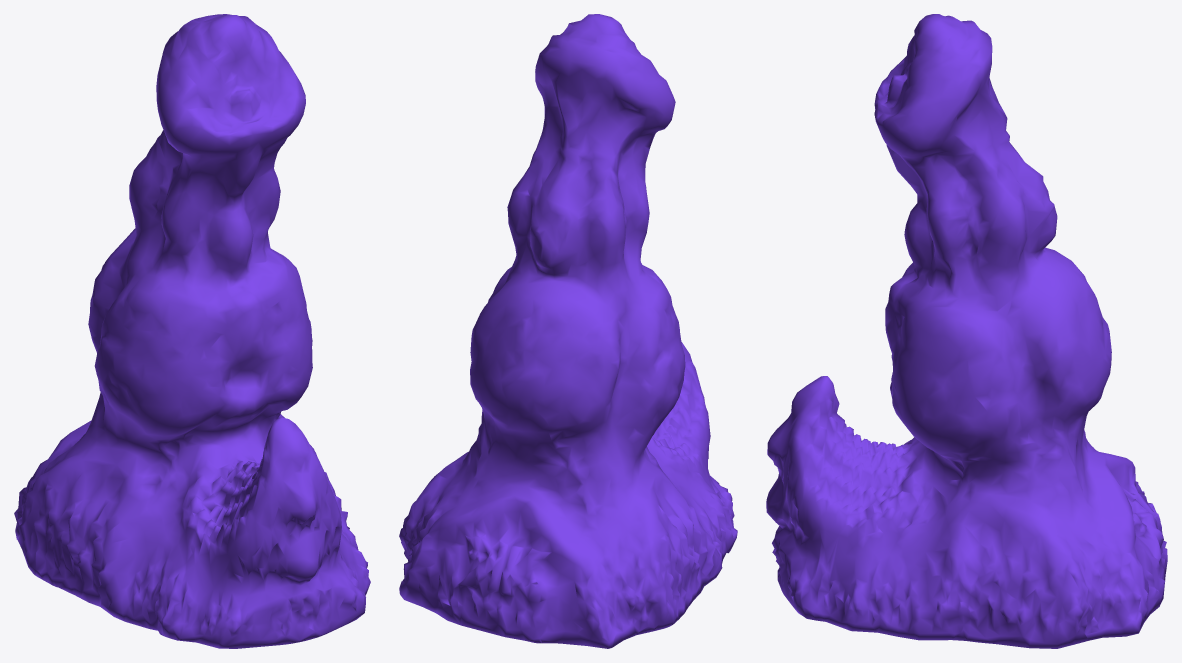
File: large-suction-ar.glb
The picture shows the model from 3 angles, left to right: view 1: azimuth 30°, elevation 25°; view 2: azimuth 150°, elevation 25°; view 3: azimuth 270°, elevation 25°; orthographic projection. The views are drawn at different scales.
Bounding box in the file's own units: 0.1516 × 0.2933 × 0.1886.
